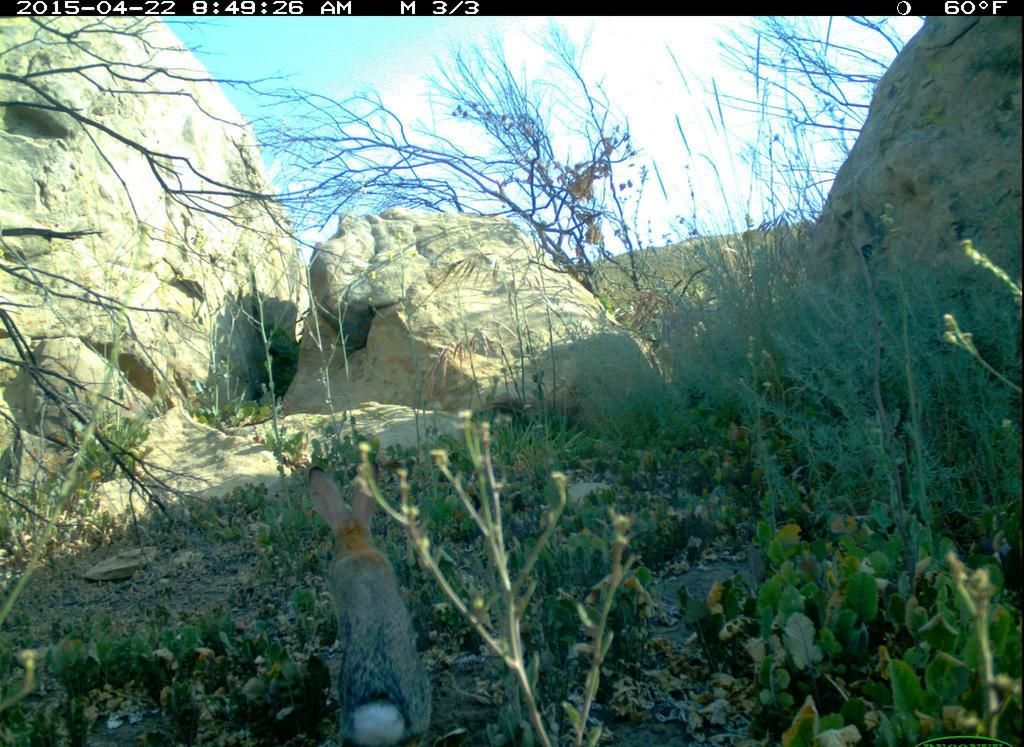rabbit: (291, 456, 447, 747)
